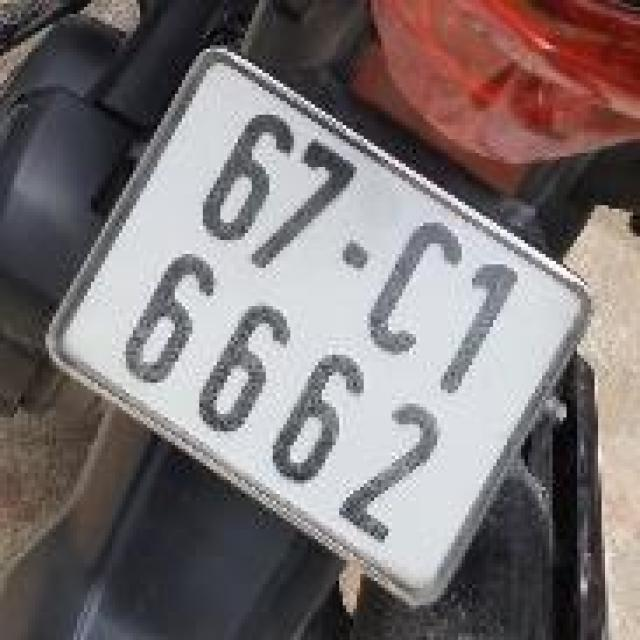1: (416, 249, 536, 419)
2: (321, 388, 468, 558)
6: (102, 236, 243, 401), (249, 330, 387, 498), (181, 282, 313, 452), (181, 95, 310, 258)
7: (241, 126, 368, 291)
C: (354, 200, 483, 373)
